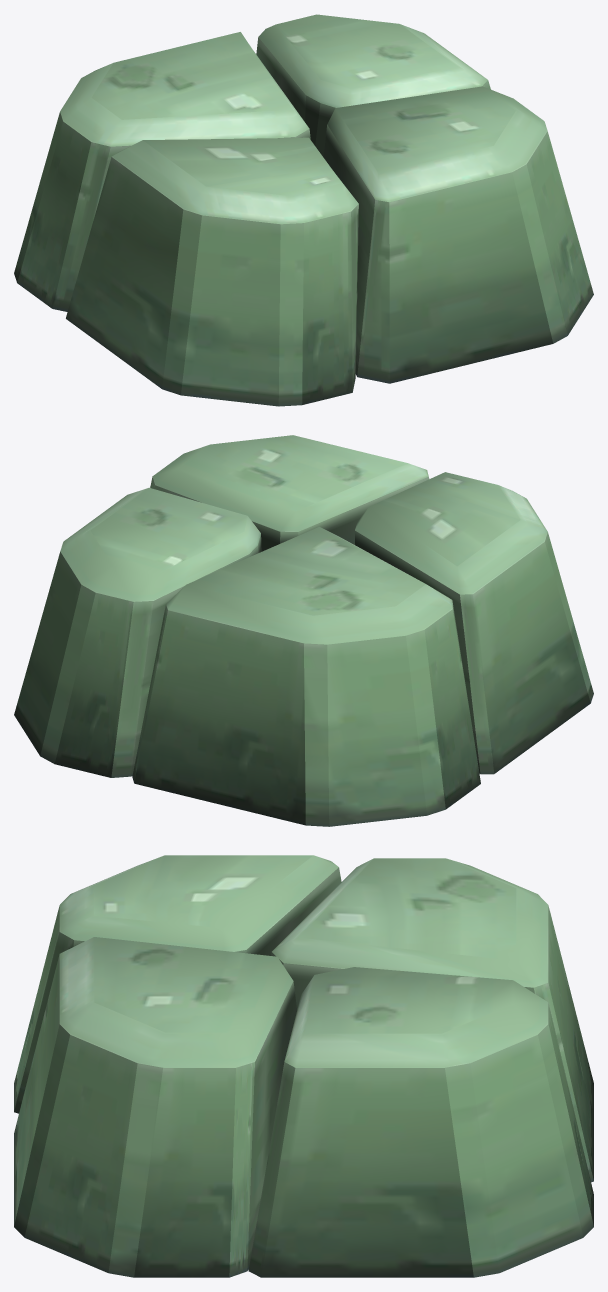
File: [GIMMICK]rock_dash_1 (merge).fbx
3 views of the same model, one above another, from view 1: azimuth 30°, elevation 25°; view 2: azimuth 150°, elevation 25°; view 3: azimuth 270°, elevation 25° (orthographic). The views are drawn at different scales.
Visible parts, largest first — view 1: [GIMMICK]rock_dash_1; view 2: [GIMMICK]rock_dash_1; view 3: [GIMMICK]rock_dash_1.
Part boxes in pixels (x1=…): [GIMMICK]rock_dash_1: x1=14, y1=14, x2=593, y2=406; [GIMMICK]rock_dash_1: x1=14, y1=435, x2=593, y2=826; [GIMMICK]rock_dash_1: x1=14, y1=855, x2=593, y2=1277.
Size of the model in its own units: 1.96 by 0.7836 by 1.96.
